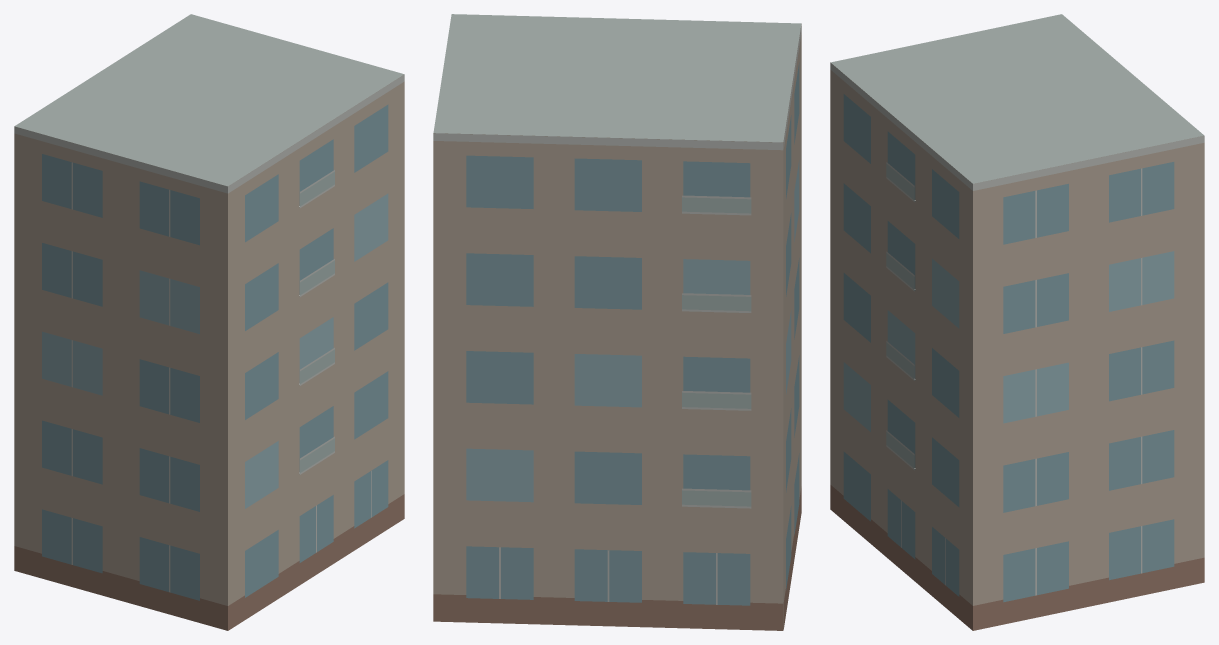
File: residential-07577555-af48-4cdf-a418-74c05c8c4c95.glb
3 renders of one model, left to right at view 1: azimuth 30°, elevation 25°; view 2: azimuth 150°, elevation 25°; view 3: azimuth 270°, elevation 25°, orthographic. The views are drawn at different scales.
Visible parts, largest first — view 1: residential-07577555-af48-4cdf-a418-74c05c8c4c95.tmp; view 2: residential-07577555-af48-4cdf-a418-74c05c8c4c95.tmp; view 3: residential-07577555-af48-4cdf-a418-74c05c8c4c95.tmp.
Part boxes in pixels (<box>): residential-07577555-af48-4cdf-a418-74c05c8c4c95.tmp: <box>14,14,404,630</box>; residential-07577555-af48-4cdf-a418-74c05c8c4c95.tmp: <box>433,14,801,630</box>; residential-07577555-af48-4cdf-a418-74c05c8c4c95.tmp: <box>830,14,1204,630</box>.
Bounding box in the file's own units: 12.44 × 15.25 × 11.58.
